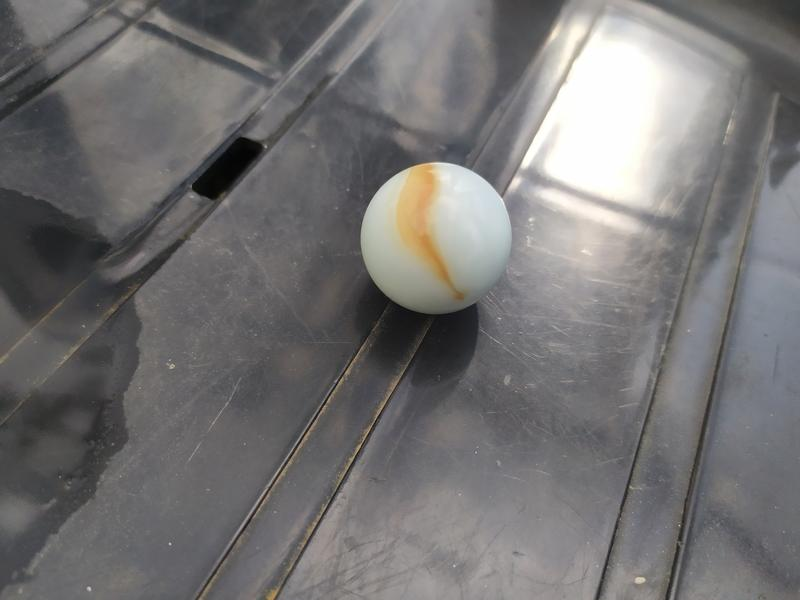Warning: (356, 160, 517, 318)
